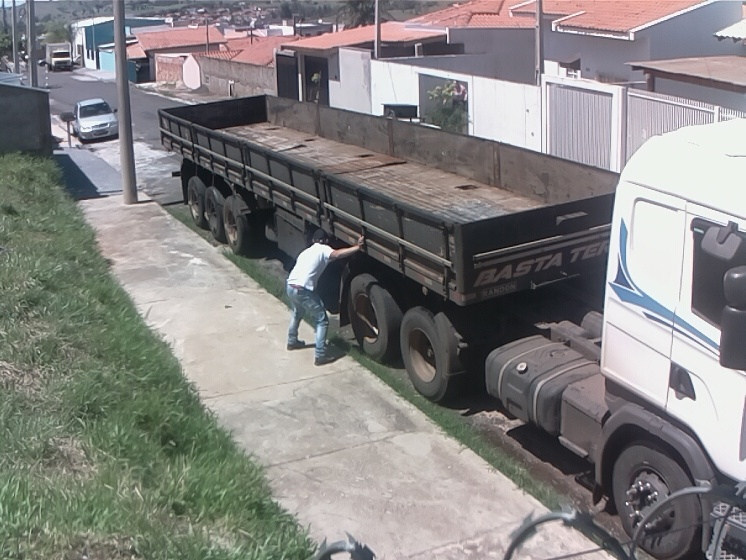person: (284, 227, 365, 368)
